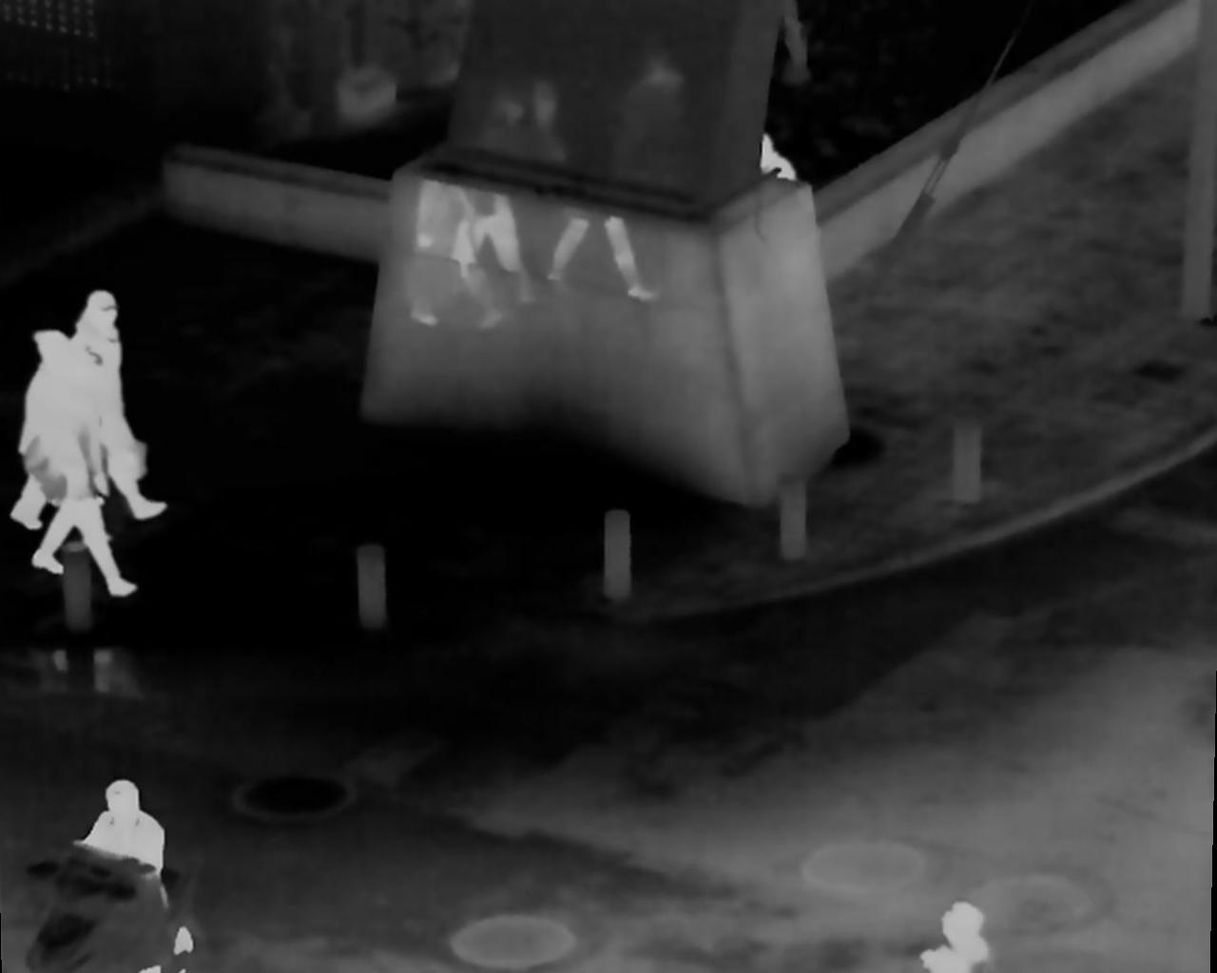person: (15, 338, 142, 595), (65, 296, 166, 520), (55, 773, 178, 948)
